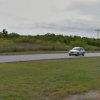Car: (64, 40, 87, 57)
